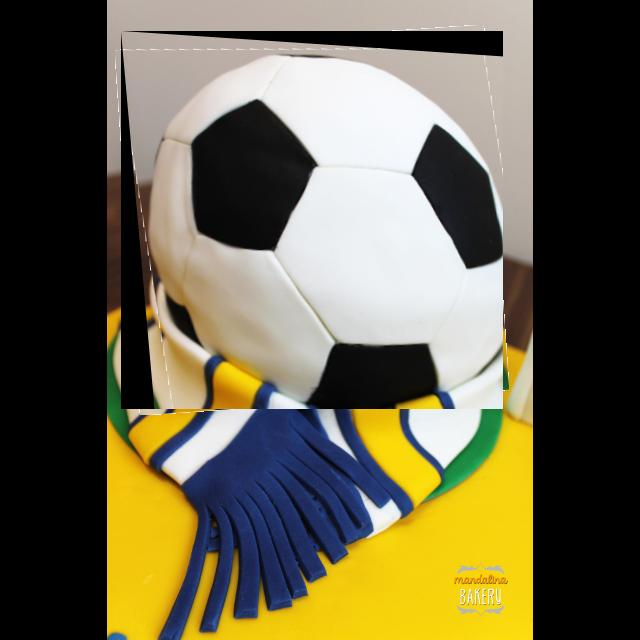Football: (121, 31, 503, 409)
